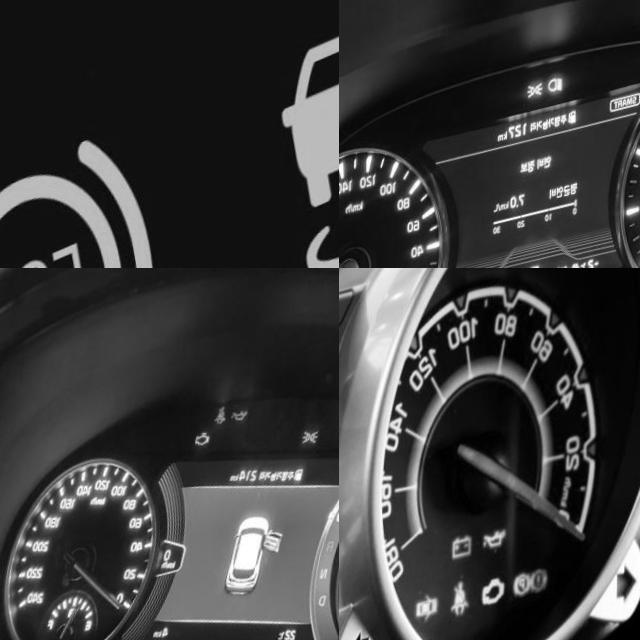Doors: (417, 607, 442, 640)
Low beam: (549, 91, 565, 111)
SideLamp: (303, 445, 321, 466), (529, 97, 545, 115)
